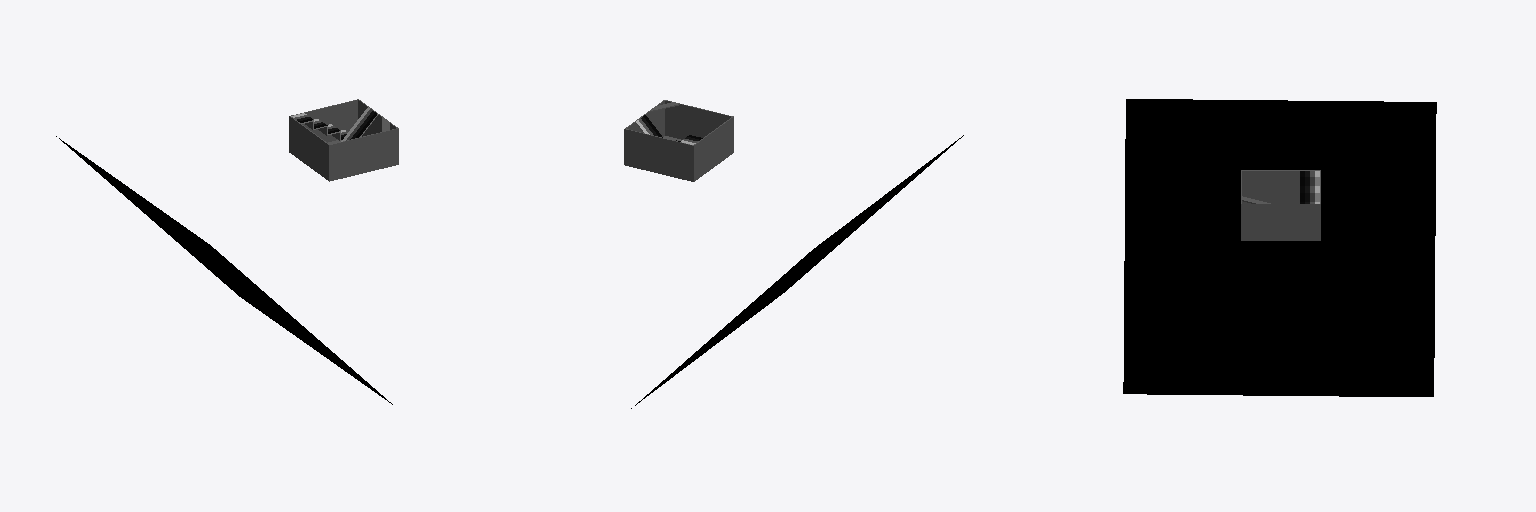
File: sceneDescription.obj
3 views of the same model, side by side, from view 1: azimuth 30°, elevation 25°; view 2: azimuth 150°, elevation 25°; view 3: azimuth 270°, elevation 25° (orthographic).
Visible parts, largest first — view 1: Box, Plane_Plane.001; view 2: Box, Plane_Plane.001; view 3: Plane_Plane.001, Box.
Part boxes in pixels (x1,y1,x2,y2): Box: (289,99,398,181); Plane_Plane.001: (56,136,392,404); Box: (624,100,733,181); Plane_Plane.001: (631,135,963,408); Plane_Plane.001: (1123,99,1436,396); Box: (1241,170,1320,240).
Bounding box in the file's own units: 3.66 × 3.18 × 4.03.